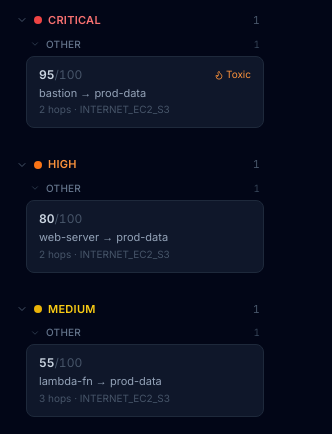
Test: AttackPathList › collapses and re-expands a second-level subgroup on click
Expected: the text "bastion → prod-data" is shown, [39,86,146,100]
Click the 1st button "Other 1" at (145, 44), box [26,36,264,52]
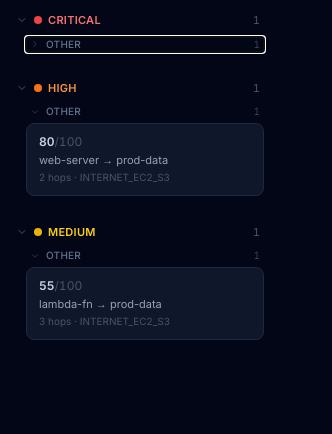
Expected: the button "bastion → prod-data" is gone
